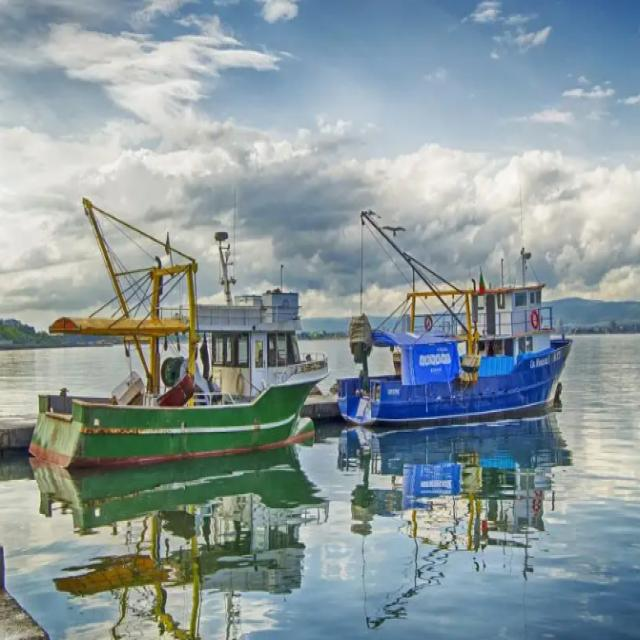fishing boat: (27, 197, 328, 471), (341, 208, 568, 427)
